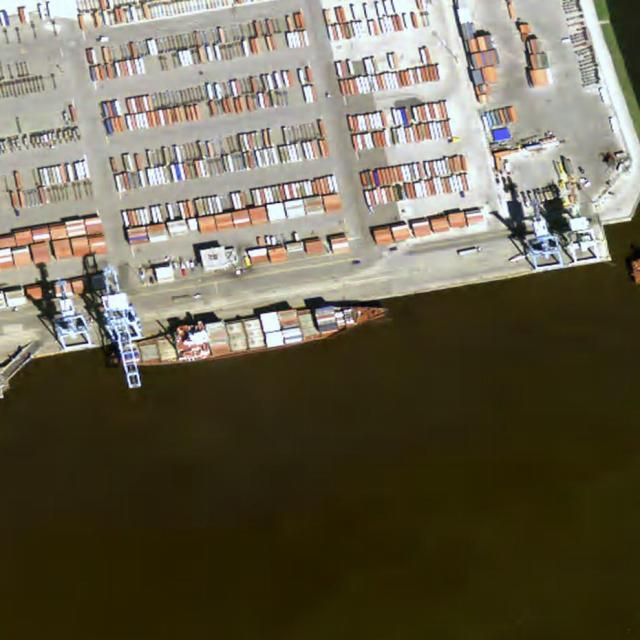Container Ship: (113, 290, 391, 374)
